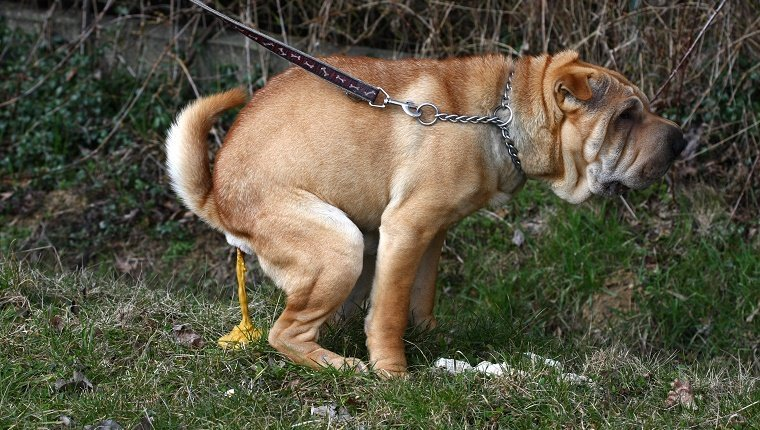dog_pooping: (159, 37, 691, 384)
